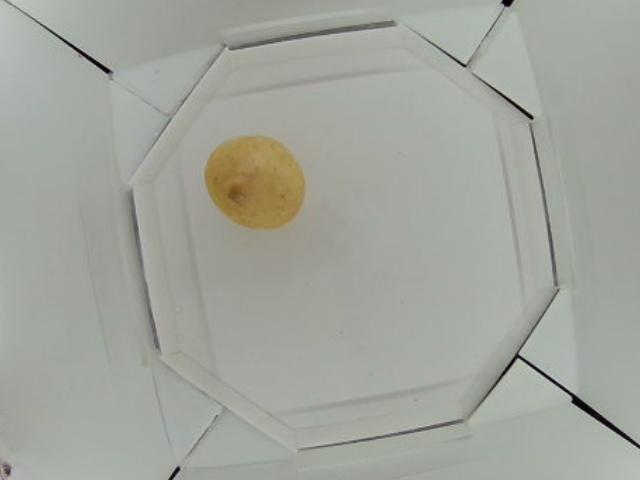Potato: (201, 136, 302, 225)
